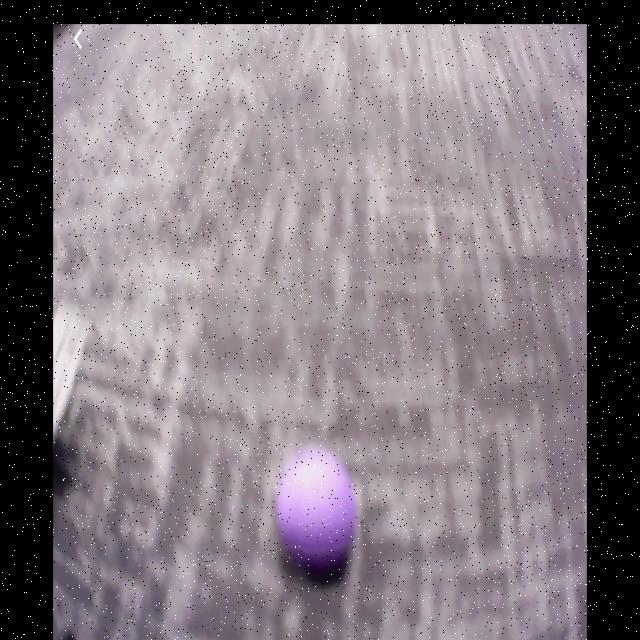ball: (276, 449, 357, 576)
